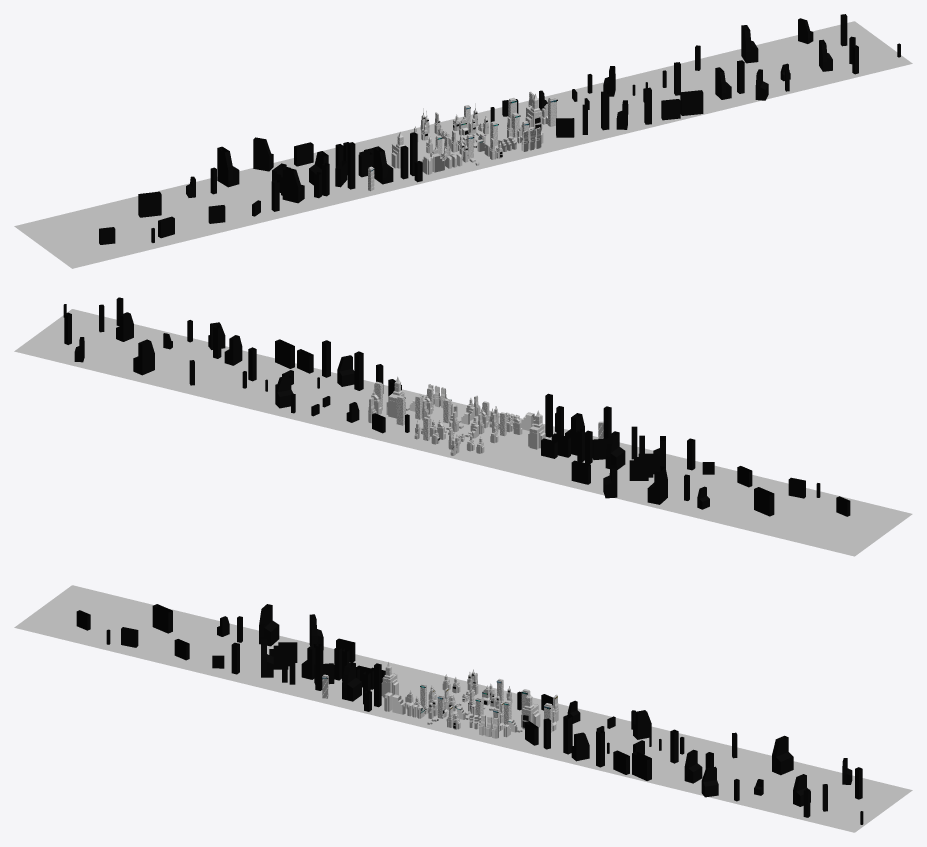
Rendered from CITY_RELISE_a.FBX.
3 renders of one model, top to bottom at view 1: azimuth 30°, elevation 25°; view 2: azimuth 150°, elevation 25°; view 3: azimuth 330°, elevation 25°, orthographic.
Visible parts, largest first — view 1: grunt, Box045, building_large004; view 2: grunt, Box045, building_large004; view 3: grunt, Box045, building_large004.
Boxes of the visible parts, bbox=[...] form: grunt: bbox=[14, 21, 912, 268]; Box045: bbox=[99, 14, 900, 244]; building_large004: bbox=[368, 91, 556, 191]; grunt: bbox=[14, 309, 912, 556]; Box045: bbox=[63, 297, 850, 516]; building_large004: bbox=[368, 376, 603, 455]; grunt: bbox=[14, 585, 912, 832]; Box045: bbox=[76, 604, 863, 824]; building_large004: bbox=[322, 662, 558, 738].
Size of the model in its own units: 5000 by 640 by 259.
